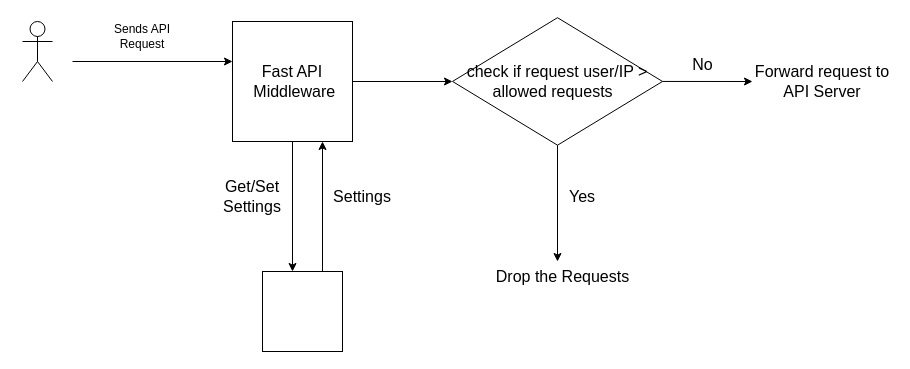
The diagram is 910 pixels wide and 369 high, and some of its shapes have lost their labels. The centre of each missing label's shape, as x and y in pixels:
"Client" belongs at point 37,51.
"Redis" belongs at point 302,311.
